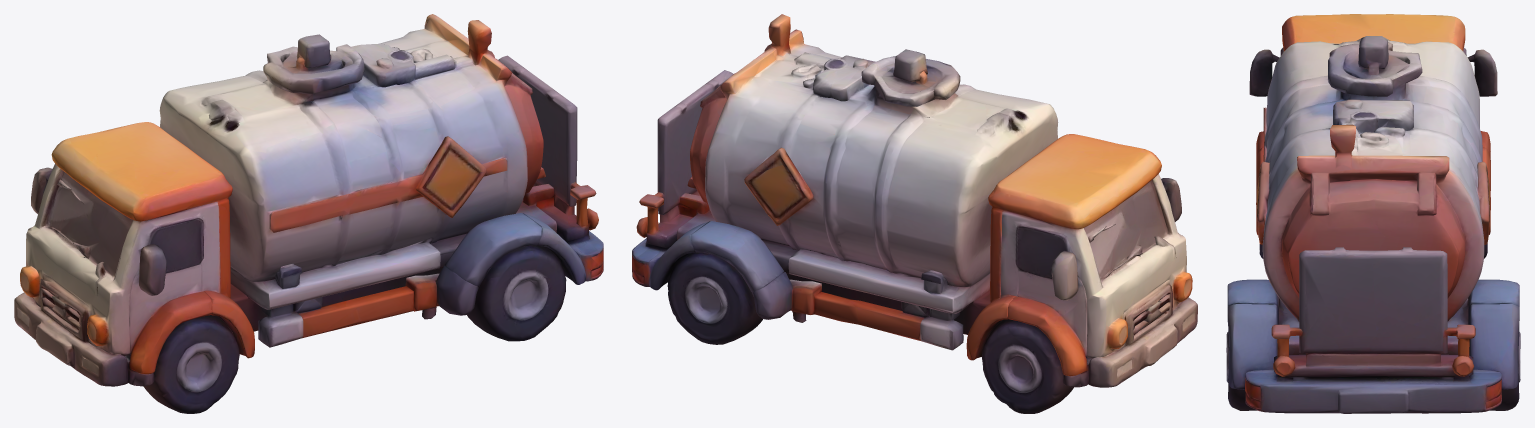
File: truck.glb
The picture shows the model from 3 angles, left to right: view 1: azimuth 30°, elevation 25°; view 2: azimuth 150°, elevation 25°; view 3: azimuth 270°, elevation 25°; orthographic projection. The views are drawn at different scales.
Parts seen in each view (by area): view 1: tripo_node_1e074c93-7e84-450b-b818-f115f6448295; view 2: tripo_node_1e074c93-7e84-450b-b818-f115f6448295; view 3: tripo_node_1e074c93-7e84-450b-b818-f115f6448295.
Part boxes in pixels (box(x1,y1,x2,y2)): tripo_node_1e074c93-7e84-450b-b818-f115f6448295: box(14, 14, 603, 413); tripo_node_1e074c93-7e84-450b-b818-f115f6448295: box(632, 14, 1197, 413); tripo_node_1e074c93-7e84-450b-b818-f115f6448295: box(1226, 14, 1520, 413).
Size of the model in its own units: 0.9782 by 0.5403 by 0.4801.
Materials: 1 (1 with a texture image).
